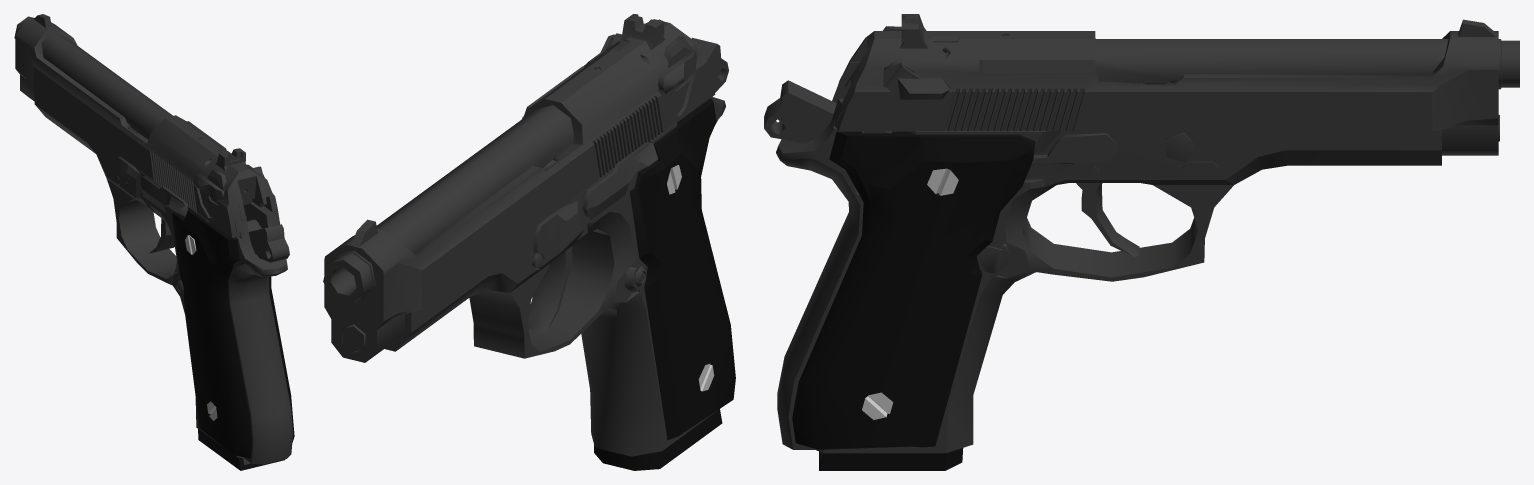
File: pistol_m9-named-nodes.glb
The picture shows the model from 3 angles, left to right: view 1: azimuth 30°, elevation 25°; view 2: azimuth 150°, elevation 25°; view 3: azimuth 270°, elevation 25°; orthographic projection. The views are drawn at different scales.
Visible parts, largest first — view 1: Object_40, Object_14, Object_37, Object_46, Object_35, Object_12, Object_18, Object_27, Object_10, Object_22, Object_6, Object_38; view 2: Object_14, Object_40, Object_37, Object_46, Object_12, Object_6, Object_27, Object_18, Object_10, Object_22, Object_35, Object_38 (+2 smaller); view 3: Object_14, Object_37, Object_40, Object_46, Object_35, Object_4, Object_27, Object_18, Object_6, Object_38, Object_22, Object_29.
Part boxes in pixels (box(x1,y1,x2,y2)): Object_40: box(34, 94, 292, 464); Object_14: box(15, 14, 280, 238); Object_37: box(172, 209, 294, 458); Object_46: box(14, 16, 172, 139); Object_35: box(247, 219, 289, 262); Object_12: box(140, 176, 187, 217); Object_18: box(193, 164, 264, 204); Object_27: box(198, 429, 285, 470); Object_10: box(115, 156, 139, 183); Object_22: box(216, 148, 246, 170); Object_6: box(148, 202, 174, 253); Object_38: box(185, 235, 217, 420); Object_14: box(324, 19, 715, 362); Object_40: box(385, 96, 725, 456); Object_37: box(630, 98, 735, 439); Object_46: box(323, 105, 573, 303); Object_12: box(582, 142, 657, 220); Object_6: box(527, 226, 586, 332); Object_27: box(594, 409, 722, 470); Object_18: box(583, 33, 696, 93); Object_10: box(533, 201, 577, 258); Object_22: box(620, 14, 664, 49); Object_35: box(691, 37, 728, 92); Object_38: box(667, 165, 714, 391); Object_14: box(834, 19, 1498, 155); Object_37: box(792, 131, 1035, 449); Object_40: box(776, 61, 1441, 453); Object_46: box(1095, 39, 1519, 89); Object_35: box(764, 80, 836, 142); Object_4: box(862, 131, 1119, 179); Object_27: box(819, 448, 963, 470); Object_18: box(883, 26, 950, 99); Object_6: box(1076, 166, 1139, 256); Object_38: box(862, 168, 958, 419); Object_22: box(899, 14, 928, 48); Object_29: box(976, 244, 1009, 277).
Size of the model in its own units: 0.0327 by 0.138 by 0.2178.
1 material, 1 textured.
